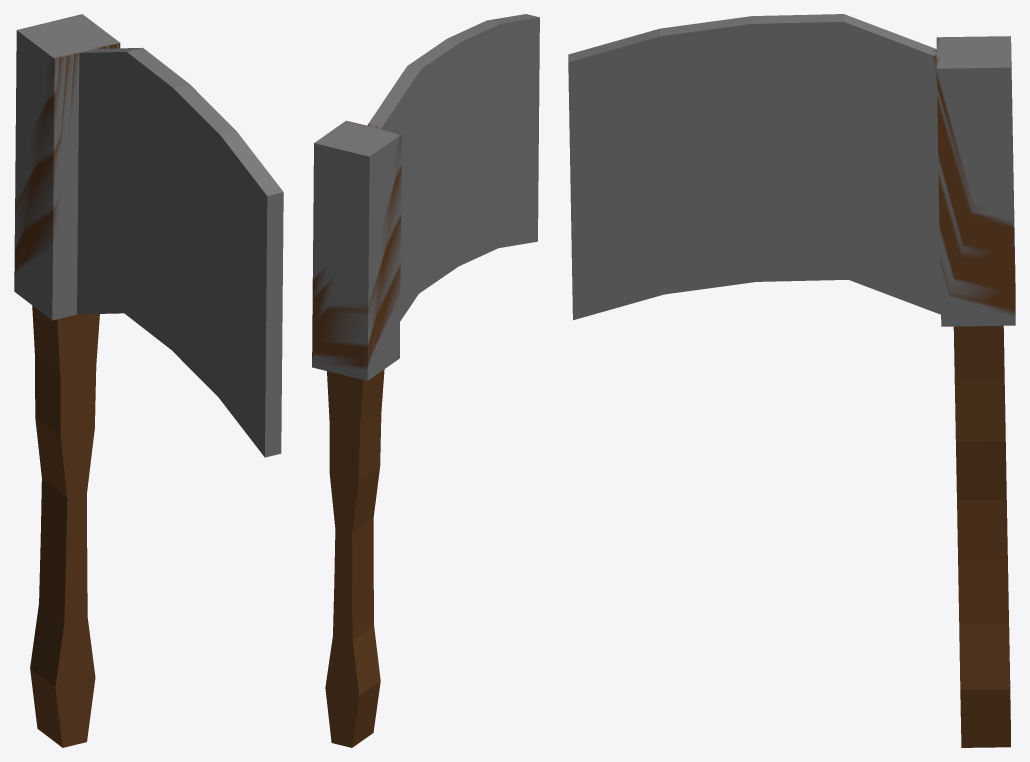
File: Axe.fbx
3 renders of one model, left to right at view 1: azimuth 30°, elevation 25°; view 2: azimuth 150°, elevation 25°; view 3: azimuth 270°, elevation 25°, orthographic. The views are drawn at different scales.
Parts seen in each view (by area): view 1: Enemy; view 2: Enemy; view 3: Enemy.
Part boxes in pixels (x1,y1,x2,y2): Enemy: (14, 14, 283, 747); Enemy: (312, 14, 539, 747); Enemy: (568, 14, 1015, 747).
Bounding box in the file's own units: 2.52 × 27.06 × 15.15.
